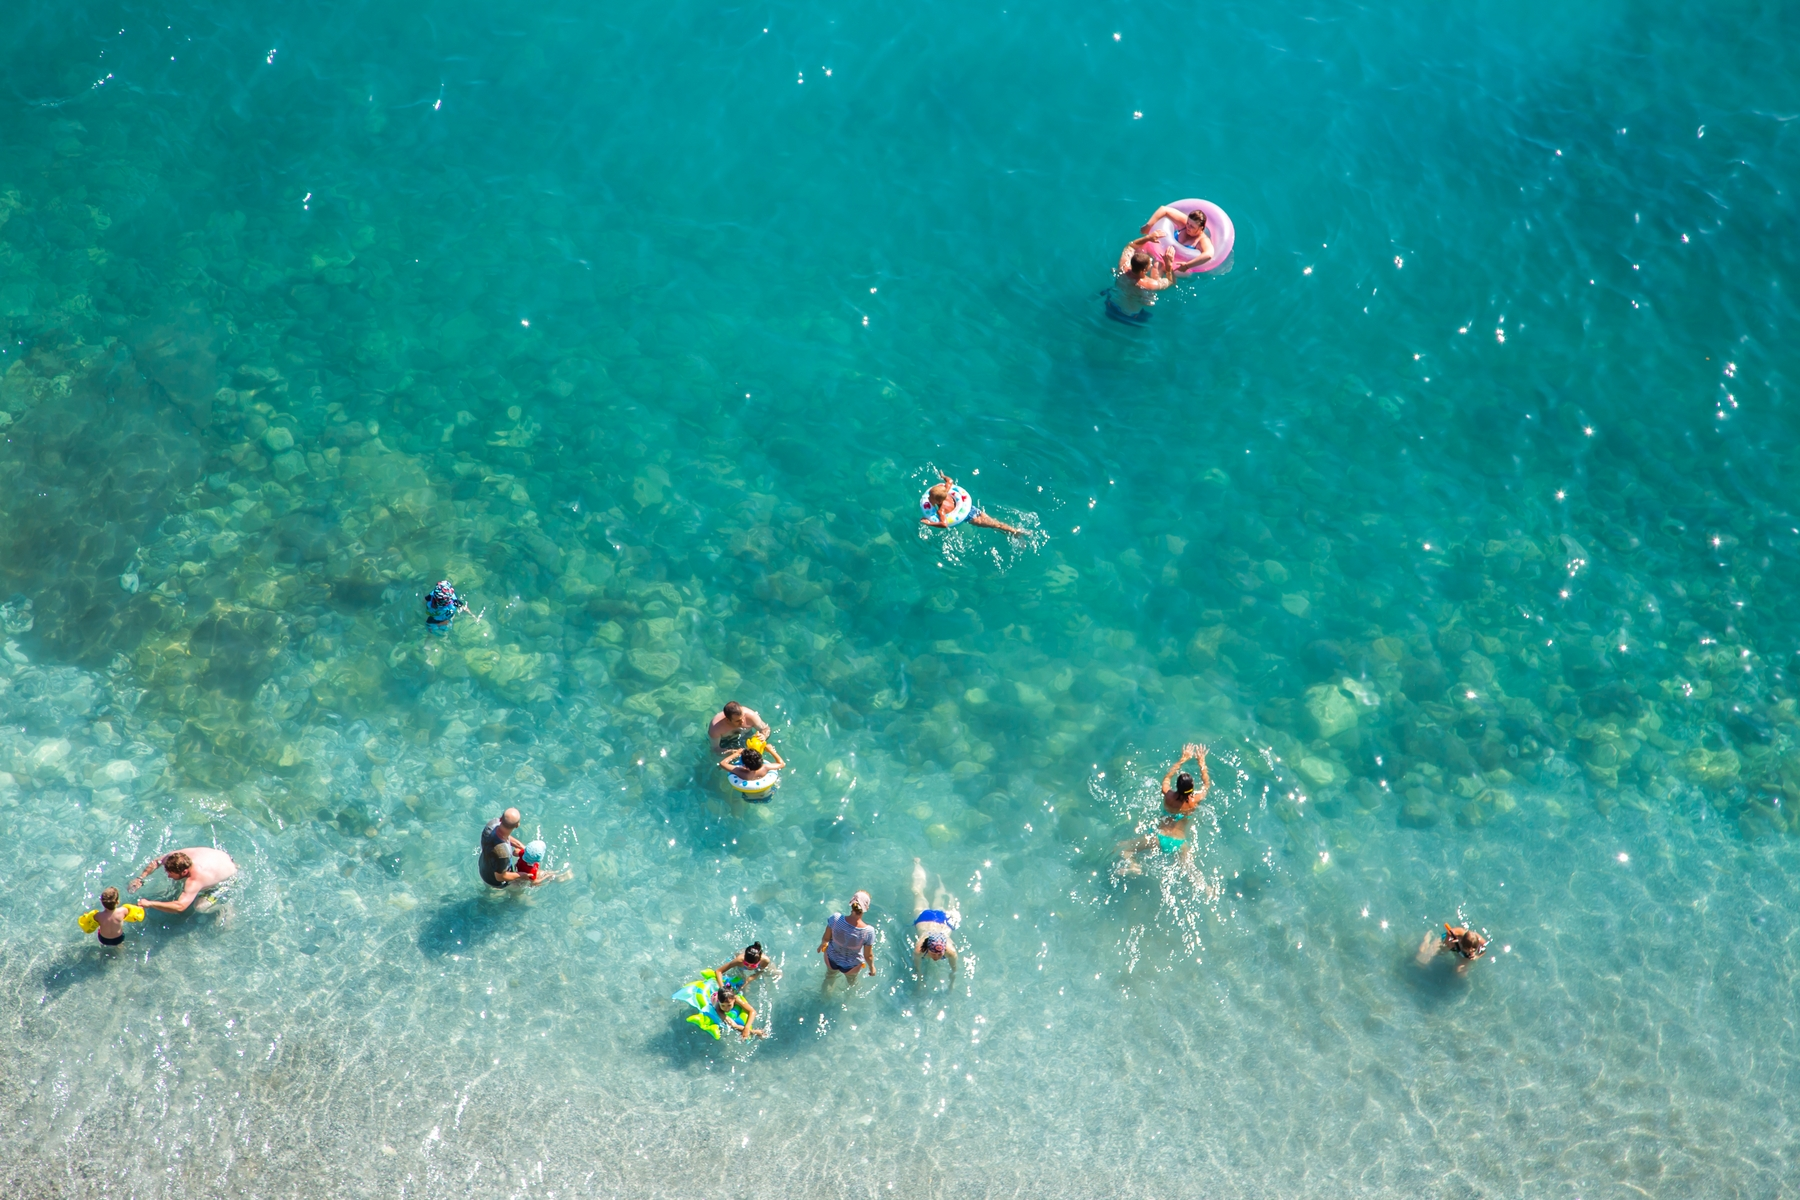people: (1110, 738, 1215, 899), (1085, 230, 1180, 329), (121, 842, 240, 917), (915, 470, 1032, 541), (906, 851, 962, 993), (813, 887, 879, 998), (1140, 192, 1217, 273), (477, 805, 532, 893), (75, 884, 146, 951), (1413, 917, 1487, 981), (719, 741, 788, 803), (416, 577, 475, 641), (711, 984, 772, 1044), (708, 940, 784, 987), (704, 698, 773, 746), (514, 835, 571, 886)
